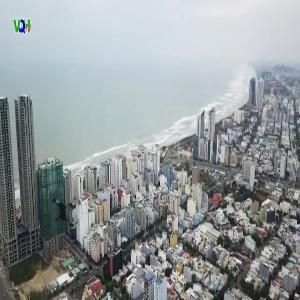drone: (35, 180, 98, 243)
